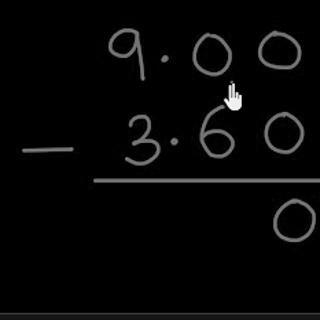.: (167, 134, 181, 153), (157, 48, 172, 64)
0: (266, 194, 318, 251), (184, 30, 234, 80), (254, 26, 304, 76), (263, 109, 307, 158)
3: (121, 111, 162, 171)
9: (106, 25, 149, 86)
